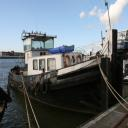tugboat: (9, 16, 127, 121)
